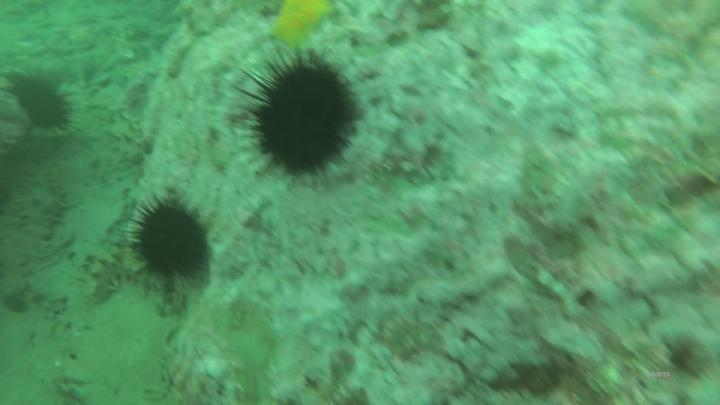echinus: (259, 61, 356, 178), (139, 204, 205, 278), (18, 79, 69, 129)
holothurian: (23, 168, 61, 240), (85, 242, 122, 307)
